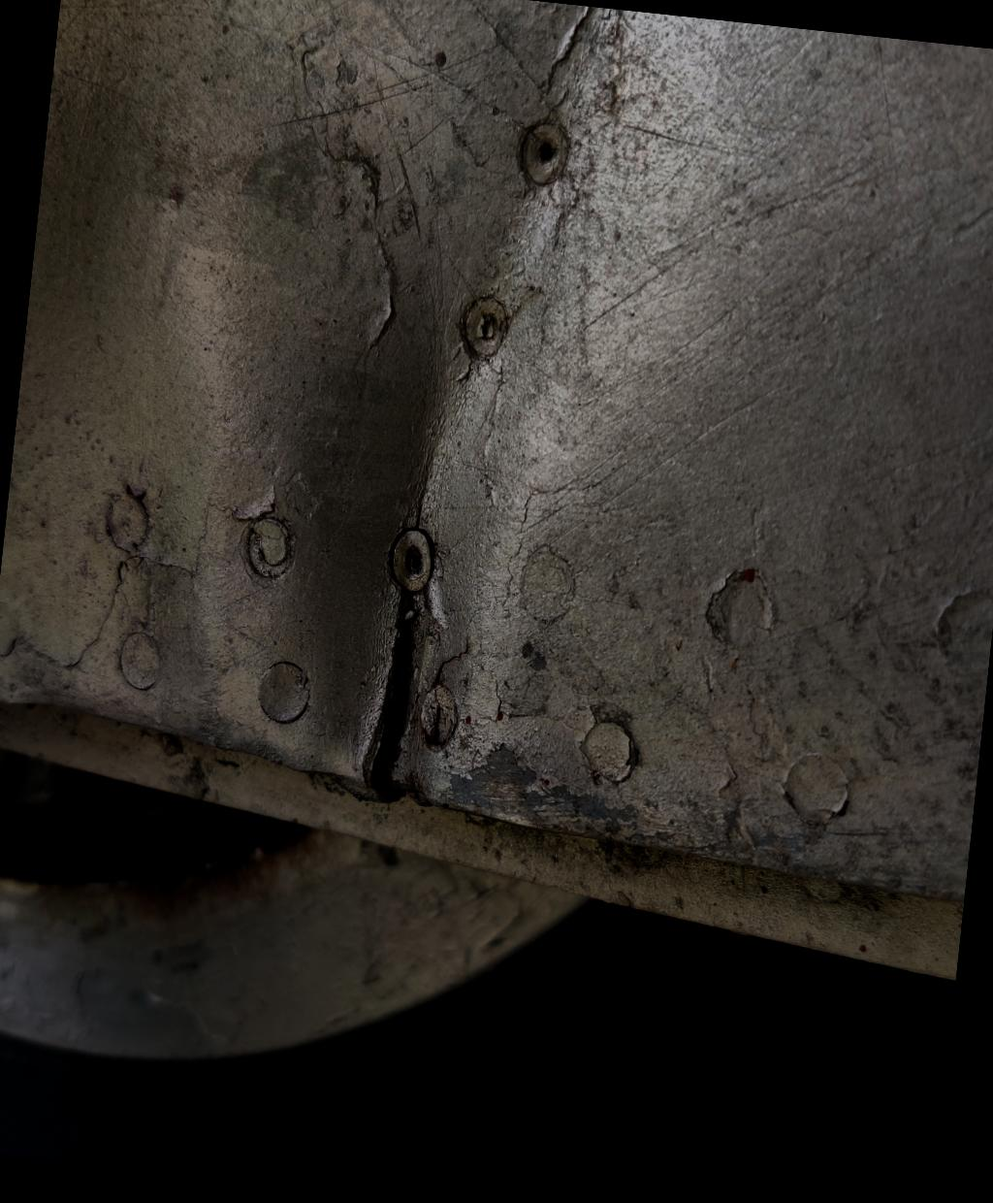crack: (307, 559, 482, 829)
